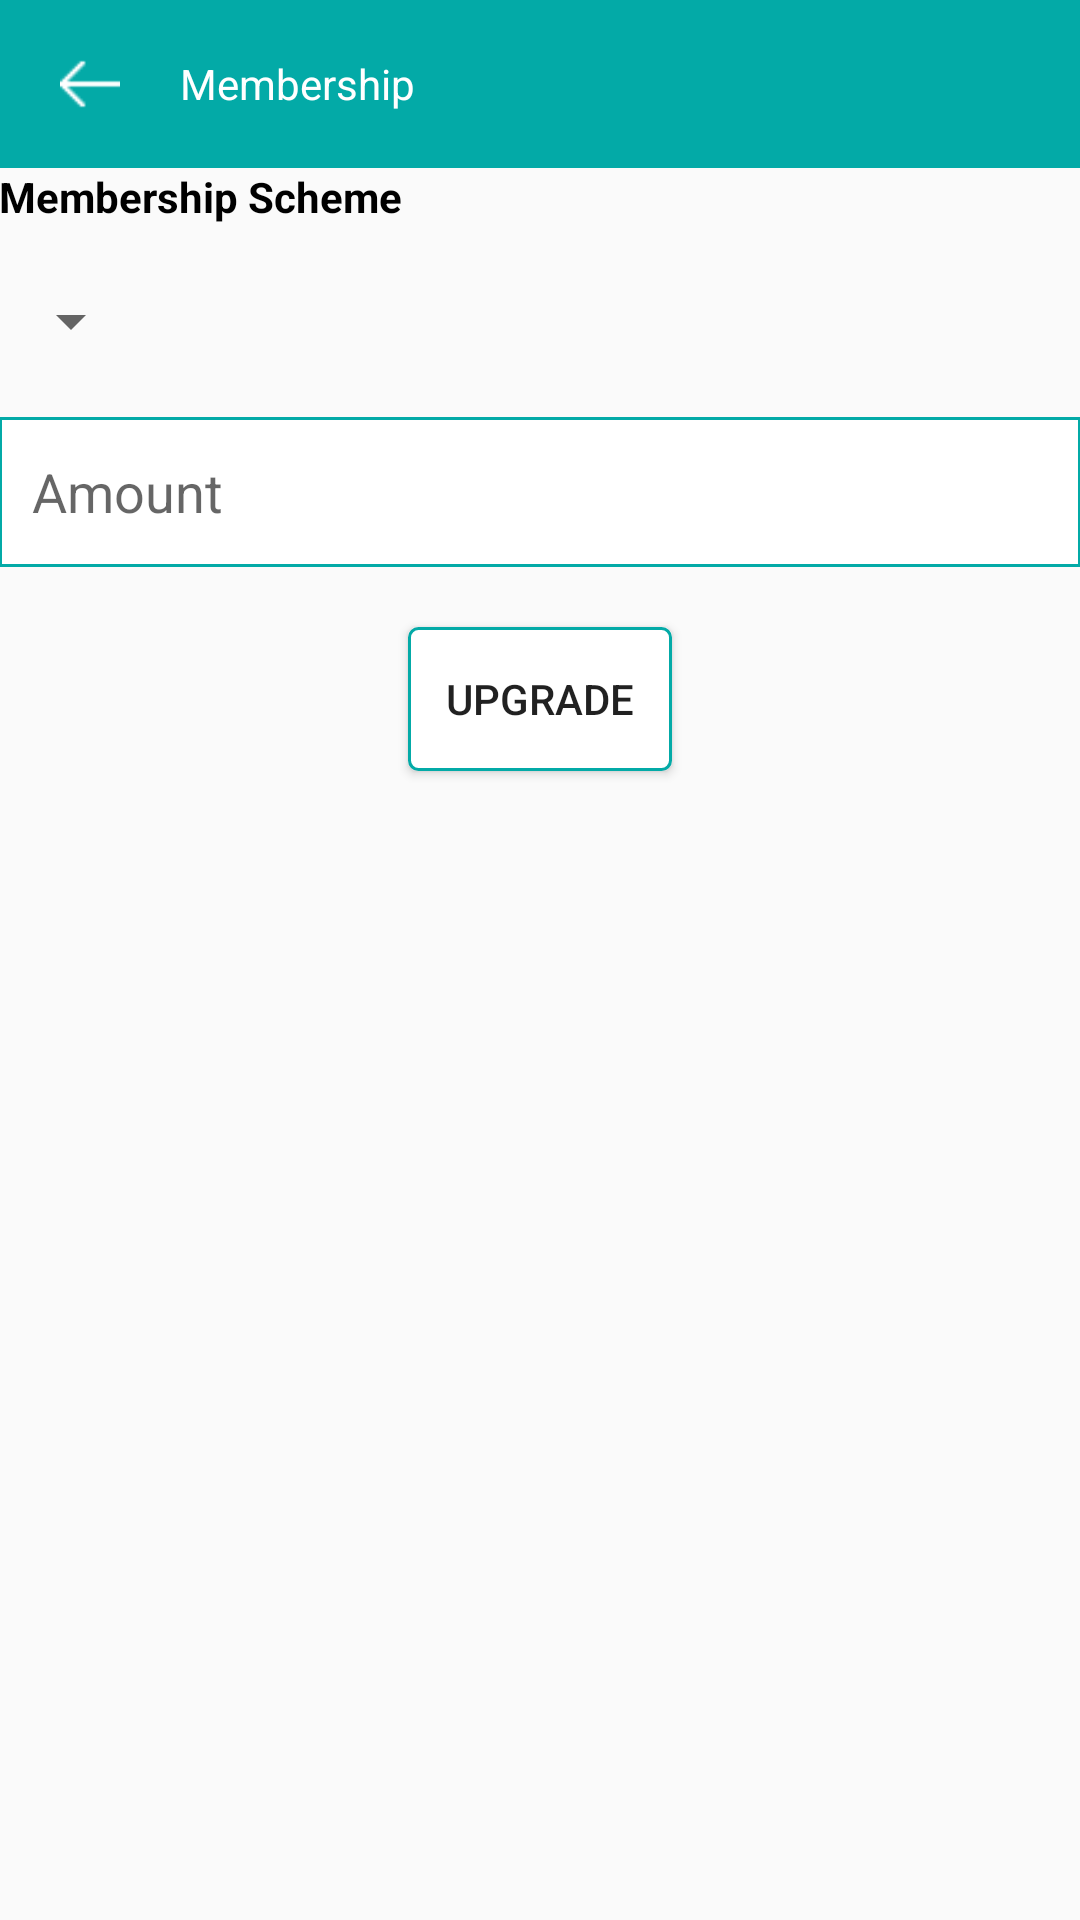

Icons on this 1080px×1920px Android screen, each with its box as (x1, y1, x2, y2):
back: (60, 60, 120, 108)
